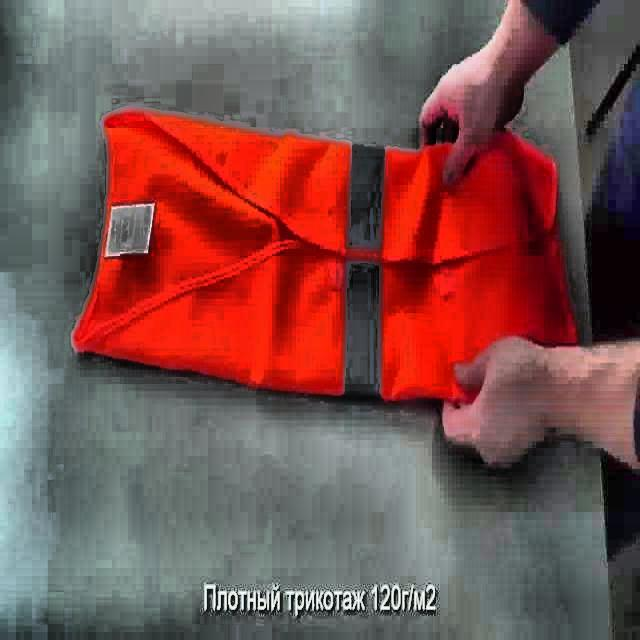safety_jacket: (68, 108, 582, 414)
